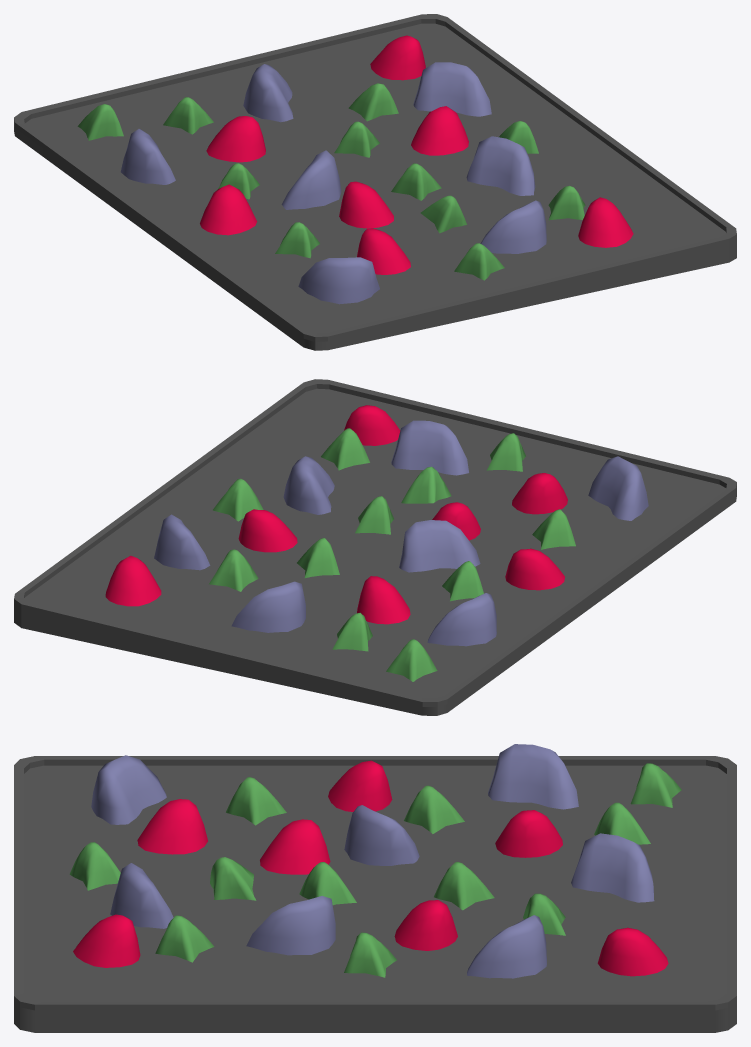
Rendered from asitubo.fbx.
3 views of the same model, one above another, from view 1: azimuth 30°, elevation 25°; view 2: azimuth 150°, elevation 25°; view 3: azimuth 270°, elevation 25° (orthographic). The views are drawn at different scales.
Visible parts, largest first — view 1: pCube26; view 2: pCube26; view 3: pCube26.
Part boxes in pixels (x1,y1,x2,y2): pCube26: (14, 14, 736, 350); pCube26: (14, 379, 736, 715); pCube26: (14, 744, 736, 1032).
Bounding box in the file's own units: 11.57 × 1.46 × 14.21.
